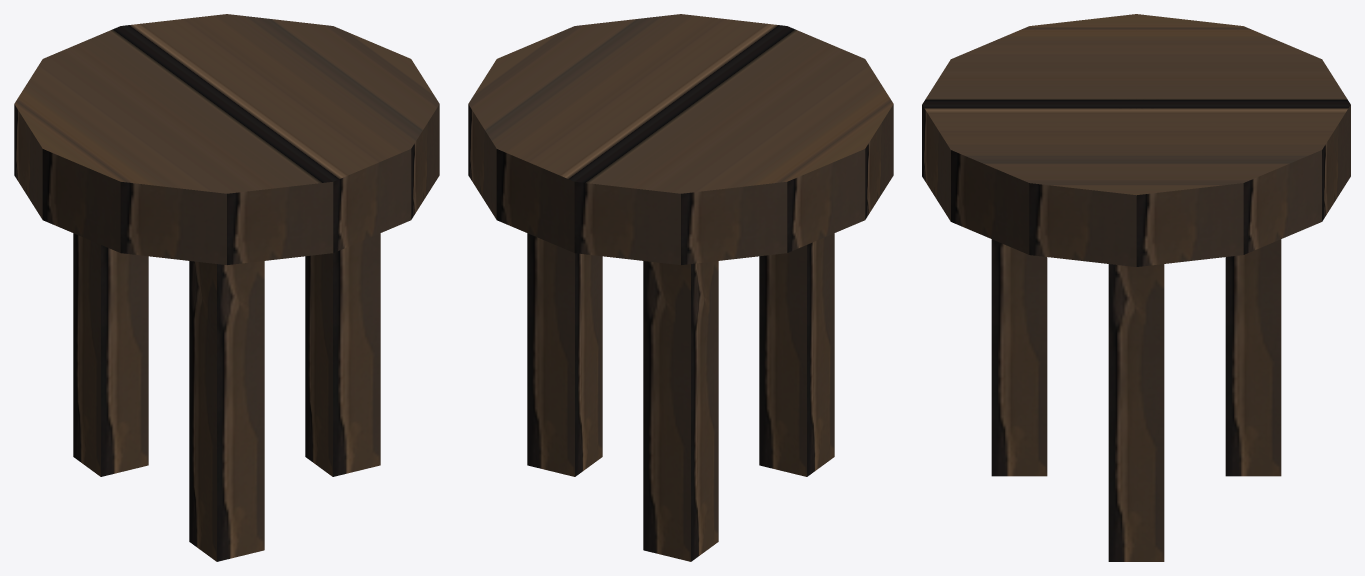
File: stool_dark.glb
The picture shows the model from 3 angles, left to right: view 1: azimuth 30°, elevation 25°; view 2: azimuth 150°, elevation 25°; view 3: azimuth 270°, elevation 25°; orthographic projection.
Parts seen in each view (by area): view 1: stool_dark; view 2: stool_dark; view 3: stool_dark.
Boxes of the visible parts, left/top/right/bottom form: stool_dark: left=14, top=14, right=439, bottom=561; stool_dark: left=468, top=14, right=893, bottom=561; stool_dark: left=922, top=14, right=1350, bottom=561.
Bounding box in the file's own units: 0.54 × 0.54 × 0.54.
Materials: 1 (1 with a texture image).
